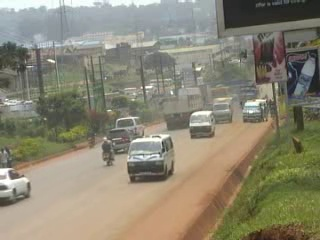Car: (0, 164, 32, 207), (106, 126, 139, 155)
Motorcycle: (98, 135, 117, 168), (85, 126, 97, 153)
